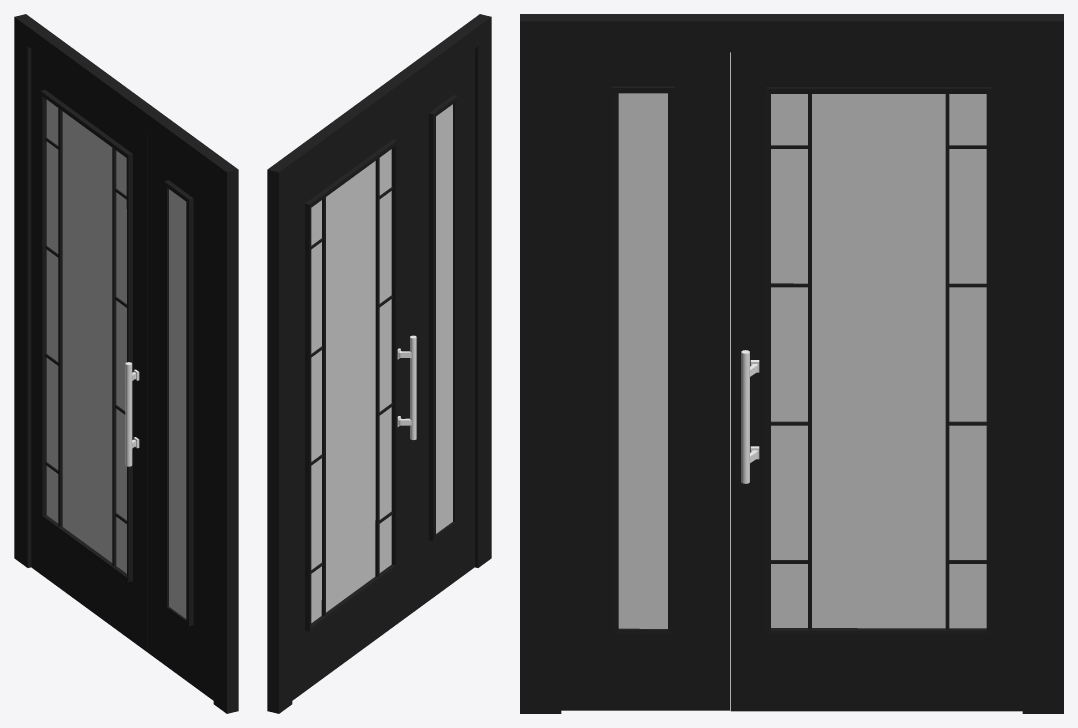
Rendered from door_large.fbx.
3 renders of one model, left to right at view 1: azimuth 30°, elevation 25°; view 2: azimuth 150°, elevation 25°; view 3: azimuth 270°, elevation 25°, orthographic. The views are drawn at different scales.
Parts seen in each view (by area): view 1: door_L, door_R, door_large; view 2: door_L, door_R, door_large; view 3: door_L, door_R, door_large.
Boxes of the visible parts, bbox=[...] form: door_L: bbox=[31, 49, 147, 651]; door_R: bbox=[147, 134, 213, 700]; door_large: bbox=[14, 14, 238, 713]; door_L: bbox=[292, 98, 416, 700]; door_R: bbox=[407, 49, 474, 616]; door_large: bbox=[267, 14, 491, 713]; door_L: bbox=[730, 52, 1022, 711]; door_R: bbox=[561, 52, 729, 710]; door_large: bbox=[520, 14, 1063, 713].
Bounding box in the file's own units: 16.45 × 222 × 158.
